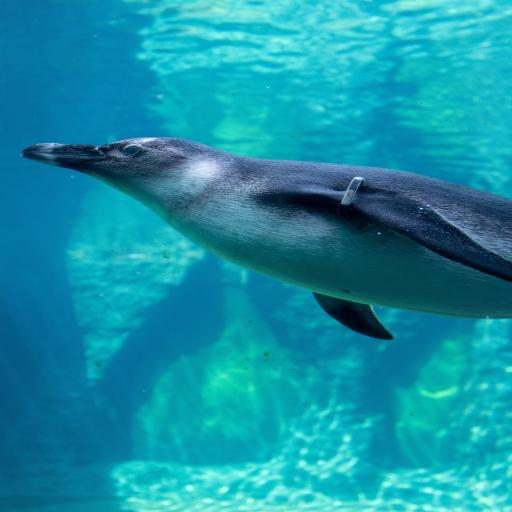penguins: (21, 137, 512, 340)
